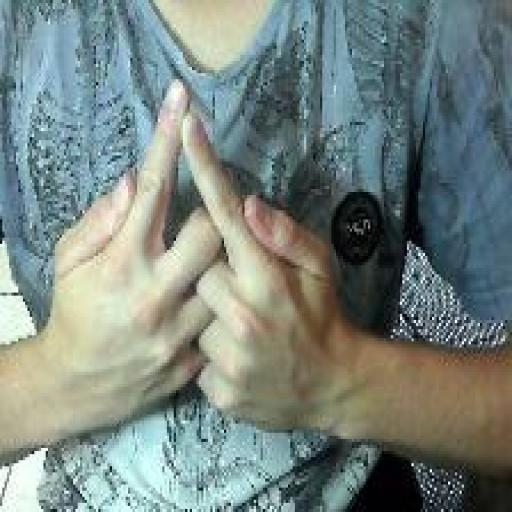Uma -horse-: (45, 73, 337, 442)
